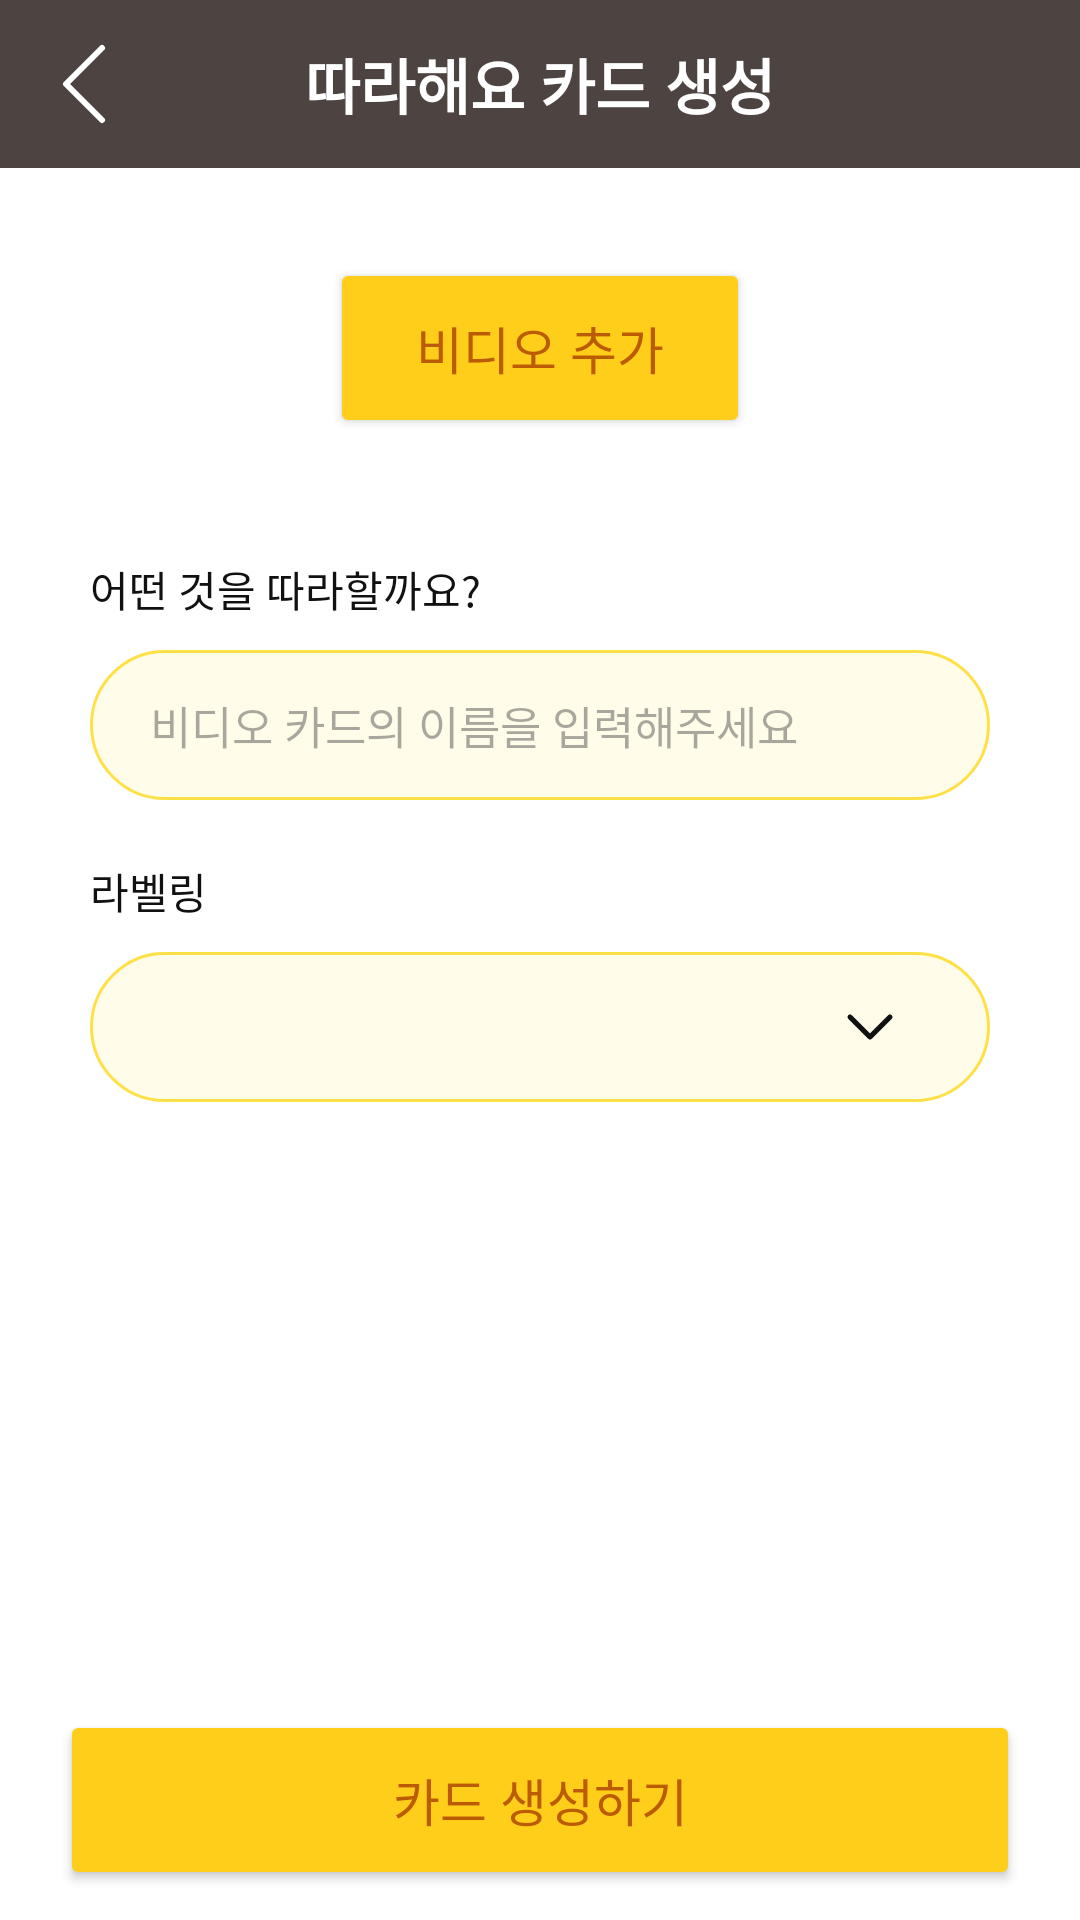

Screen size 1080w x 1920h. Icon name, then its center in pixels as [x,y]:
back: [84,83]
down: [870,1027]
